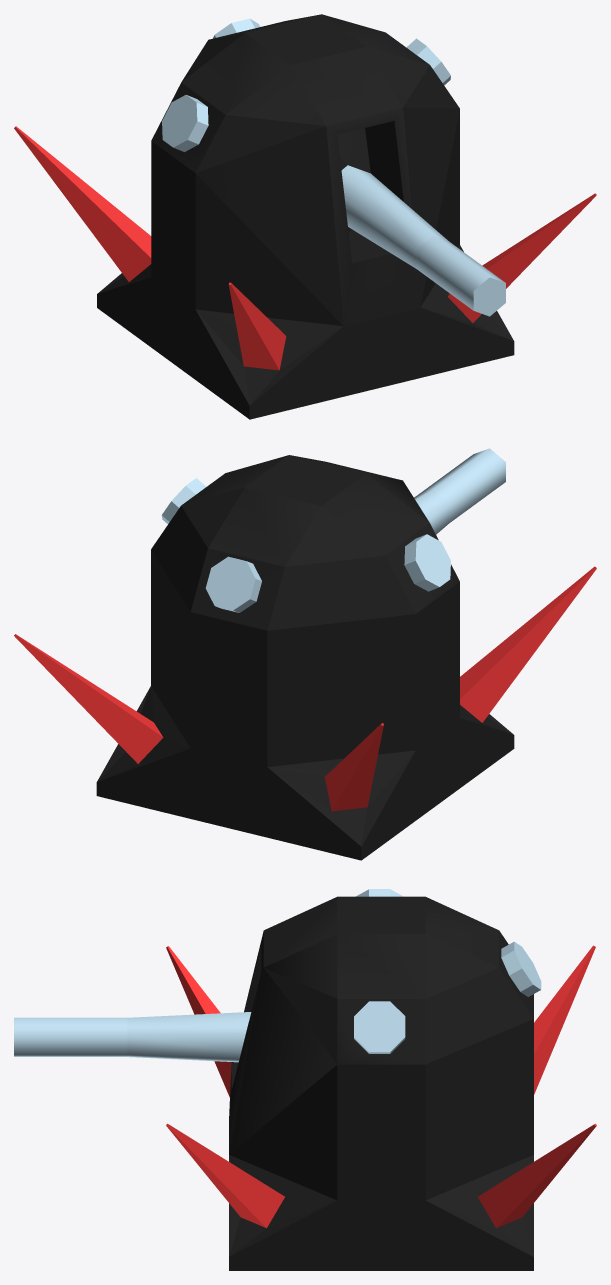
File: Turret_Default 1.FBX
The picture shows the model from 3 angles, top to bottom: view 1: azimuth 30°, elevation 25°; view 2: azimuth 150°, elevation 25°; view 3: azimuth 270°, elevation 25°; orthographic projection.
Visible parts, largest first — view 1: TurretWhole; view 2: TurretWhole; view 3: TurretWhole.
Boxes of the visible parts, <box> form: TurretWhole: <box>14,14,596,419</box>; TurretWhole: <box>14,448,596,860</box>; TurretWhole: <box>14,889,596,1270</box>.
Bounding box in the file's own units: 140 × 105 × 191.
